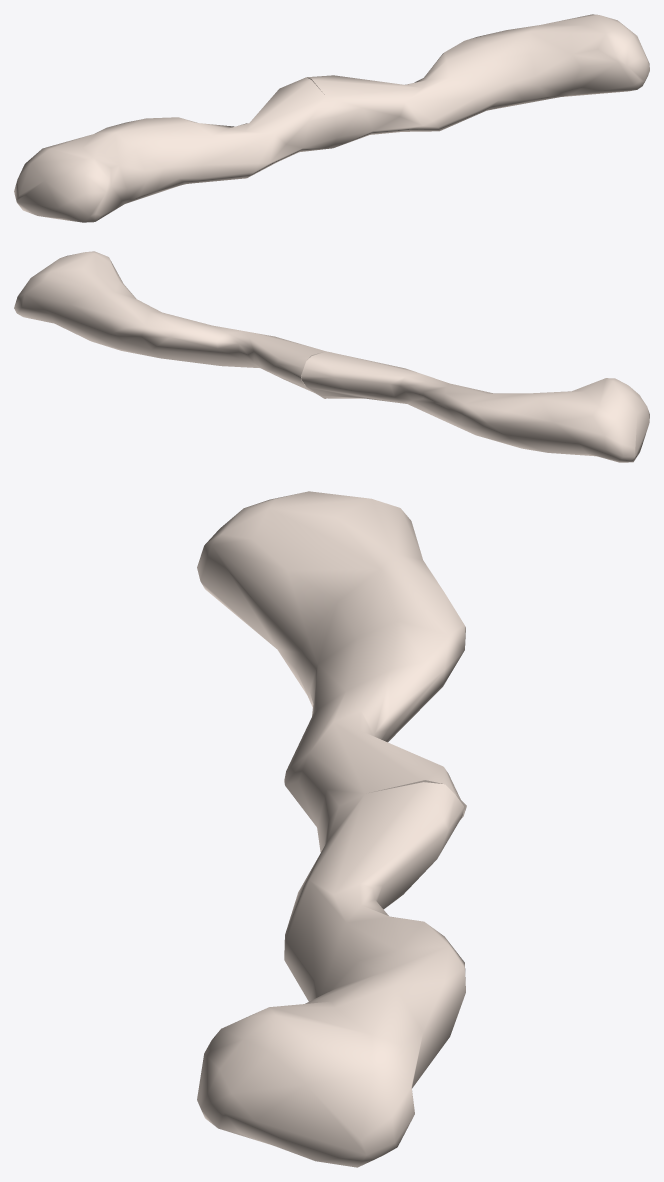
File: nervoso-anterior-commissure.glb
3 renders of one model, top to bottom at view 1: azimuth 30°, elevation 25°; view 2: azimuth 150°, elevation 25°; view 3: azimuth 270°, elevation 25°, orthographic. The views are drawn at different scales.
Parts seen in each view (by area): view 1: Anterior commissure; view 2: Anterior commissure; view 3: Anterior commissure.
Boxes of the visible parts, <box> form: Anterior commissure: <box>14,14,649,222</box>; Anterior commissure: <box>14,251,649,462</box>; Anterior commissure: <box>197,491,466,1167</box>.
Bounding box in the file's own units: 0.0238 × 0.00247 × 0.0045.
